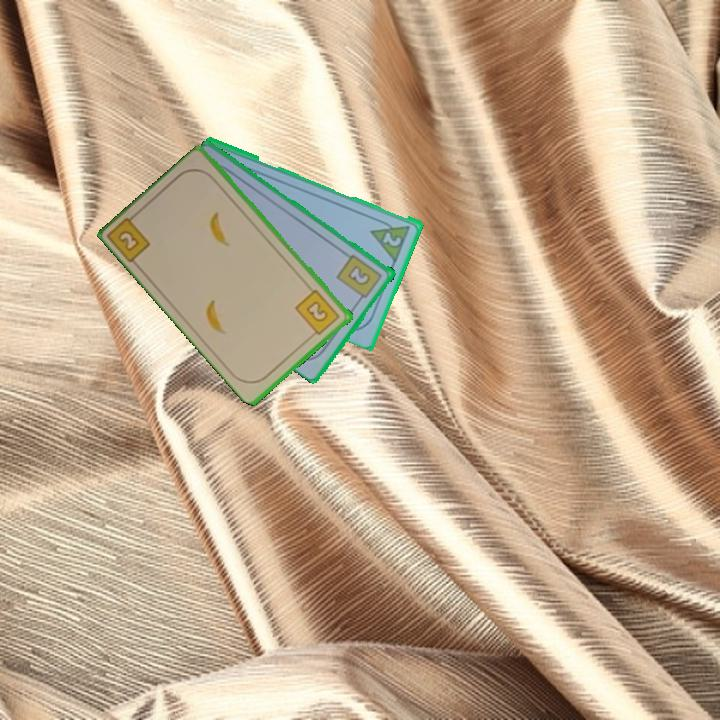2b: (106, 208, 154, 266), (334, 251, 385, 305), (292, 286, 343, 340)
2p: (380, 228, 404, 249)
